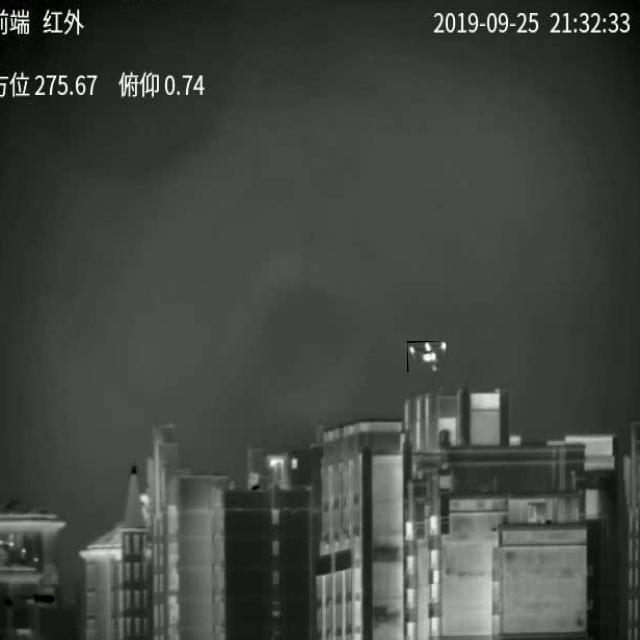drone: (407, 341, 446, 372)
